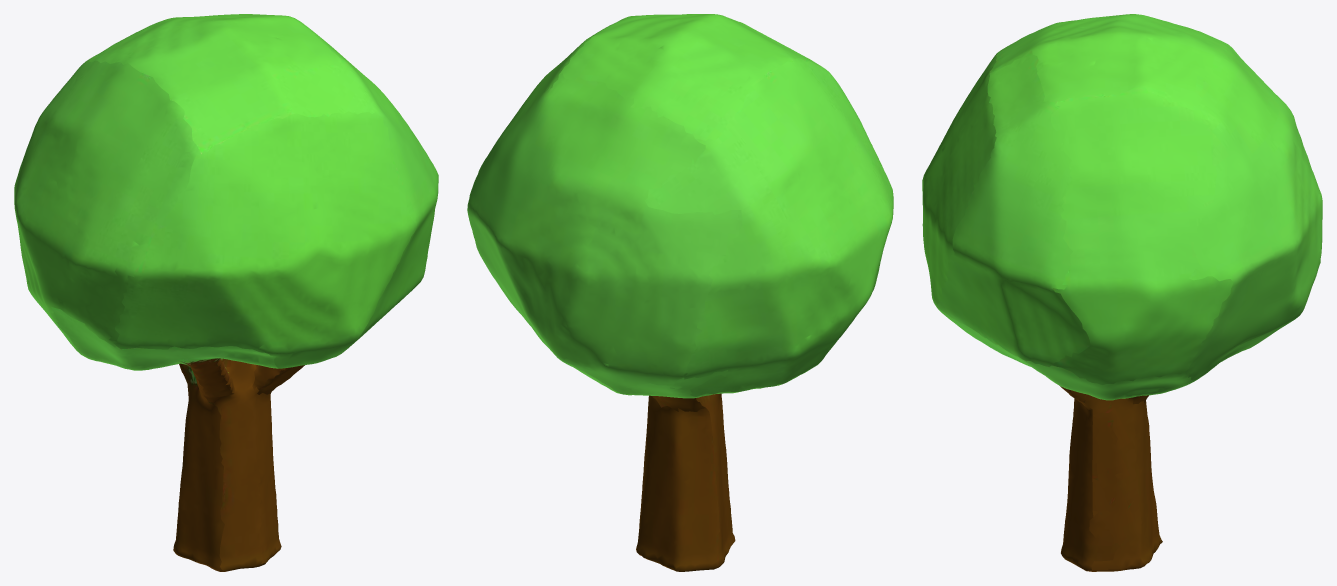
File: tree_lowpoly.glb
3 views of the same model, side by side, from view 1: azimuth 30°, elevation 25°; view 2: azimuth 150°, elevation 25°; view 3: azimuth 270°, elevation 25° (orthographic).
Parts seen in each view (by area): view 1: world; view 2: world; view 3: world.
Part boxes in pixels (<box>): world: <box>14,14,438,571</box>; world: <box>467,14,893,571</box>; world: <box>922,14,1322,571</box>.
Size of the model in its own units: 0.9674 by 1.31 by 0.9104.
Materials: 1 (1 with a texture image).
